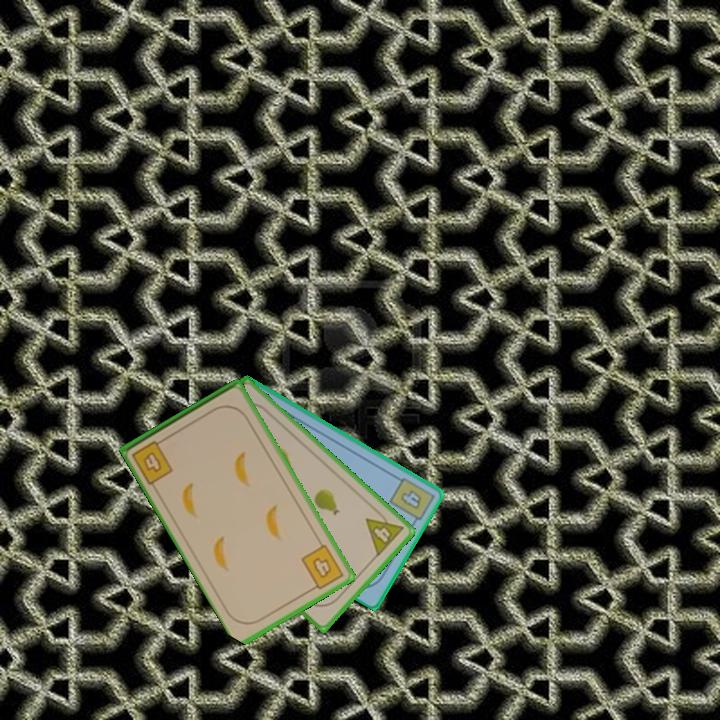4b: (386, 473, 435, 528), (297, 541, 347, 594), (128, 434, 176, 487)
4p: (362, 505, 406, 559)
